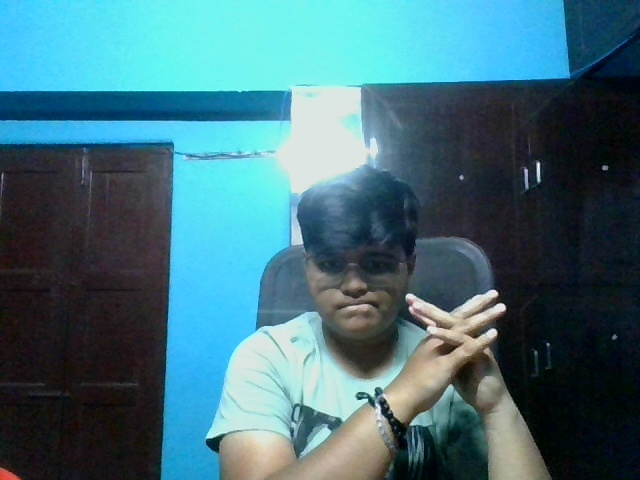W: (403, 281, 519, 425)
